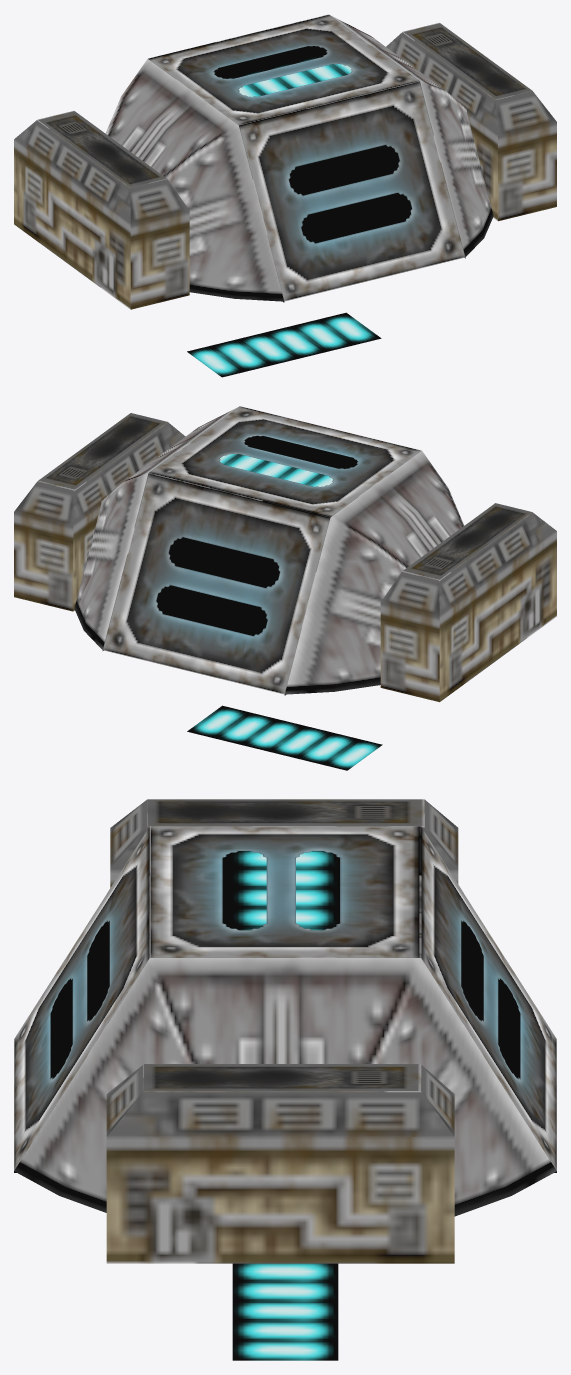
Rendered from l_turretgenerator.glb.
3 renders of one model, top to bottom at view 1: azimuth 30°, elevation 25°; view 2: azimuth 150°, elevation 25°; view 3: azimuth 270°, elevation 25°, orthographic. The views are drawn at different scales.
Visible parts, largest first — view 1: PowerGenerator, Coil; view 2: PowerGenerator, Coil; view 3: PowerGenerator, Coil.
Boxes of the visible parts, x1,y1,x2,y2 form: PowerGenerator: (14,14,556,309); Coil: (187,53,381,377); PowerGenerator: (14,406,556,702); Coil: (187,454,382,770); PowerGenerator: (14,799,556,1263); Coil: (232,851,338,1360).
Bounding box in the file's own units: 16.8 × 10.4 × 12.47.
2 materials, 2 textured.
